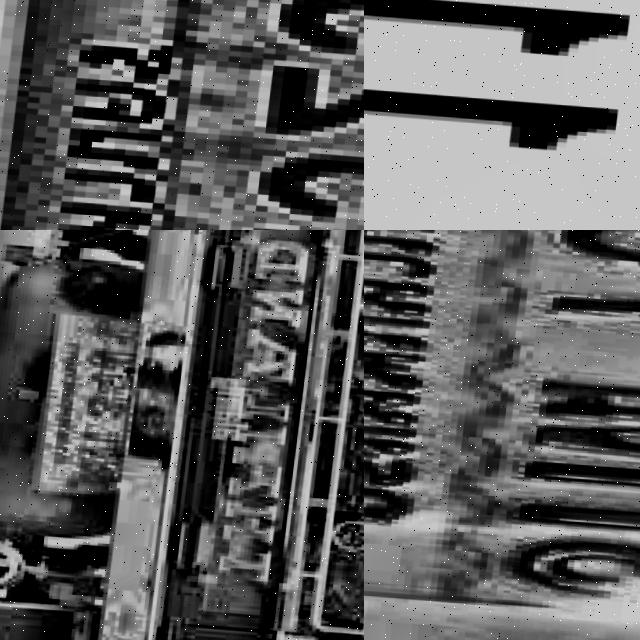license-plate: (364, 230, 640, 640), (0, 0, 364, 230), (364, 0, 640, 230), (30, 287, 166, 503)
